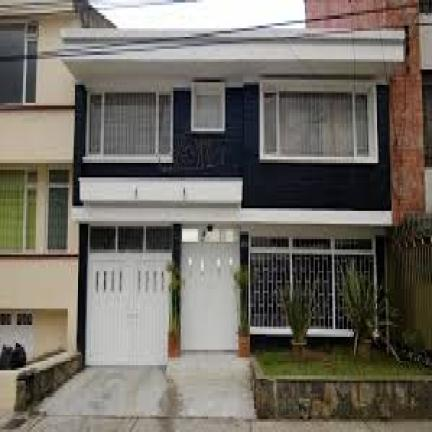casa: (64, 31, 403, 363)
